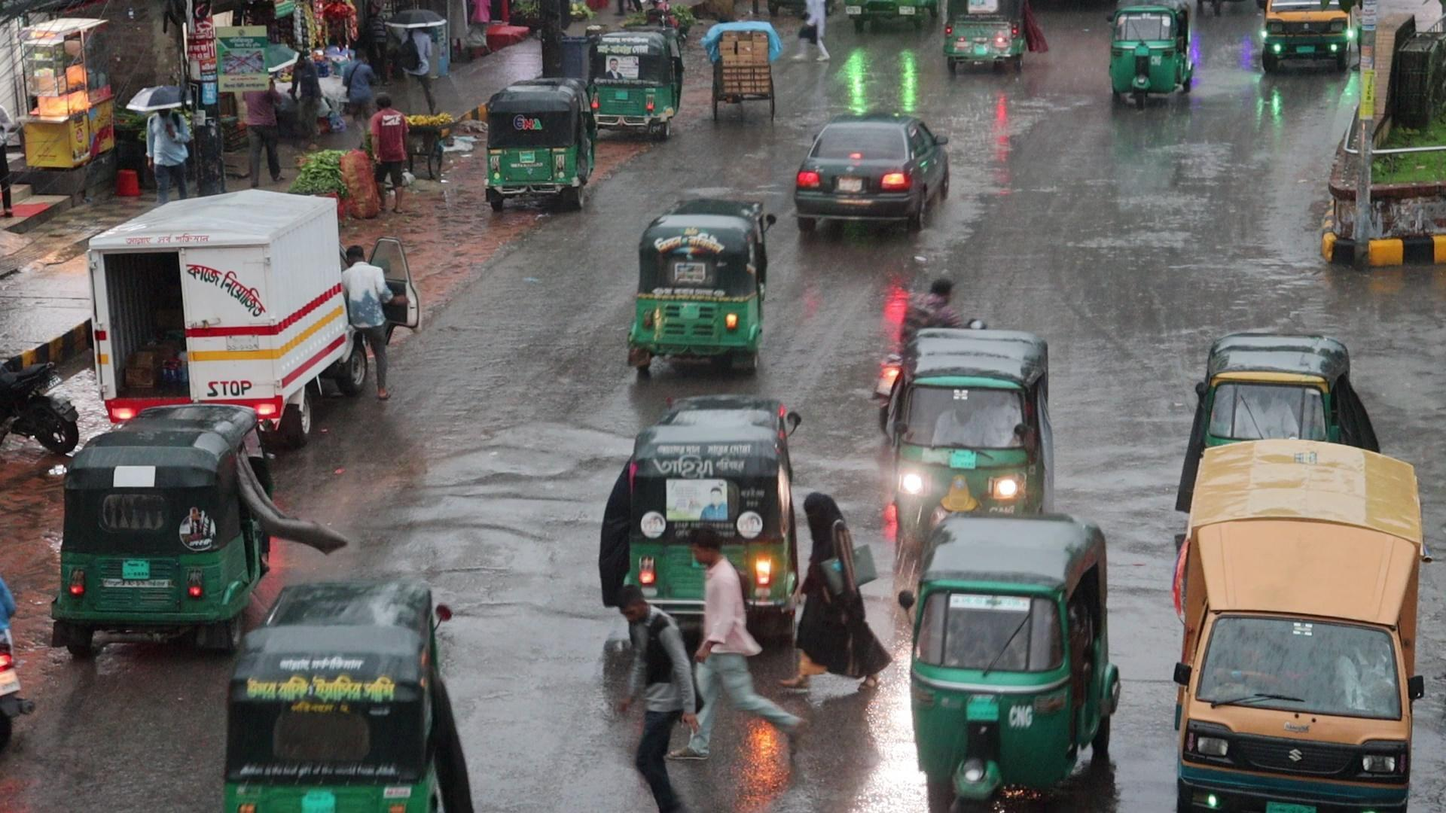Car: (793, 114, 951, 230)
Truck: (1173, 440, 1429, 813)
